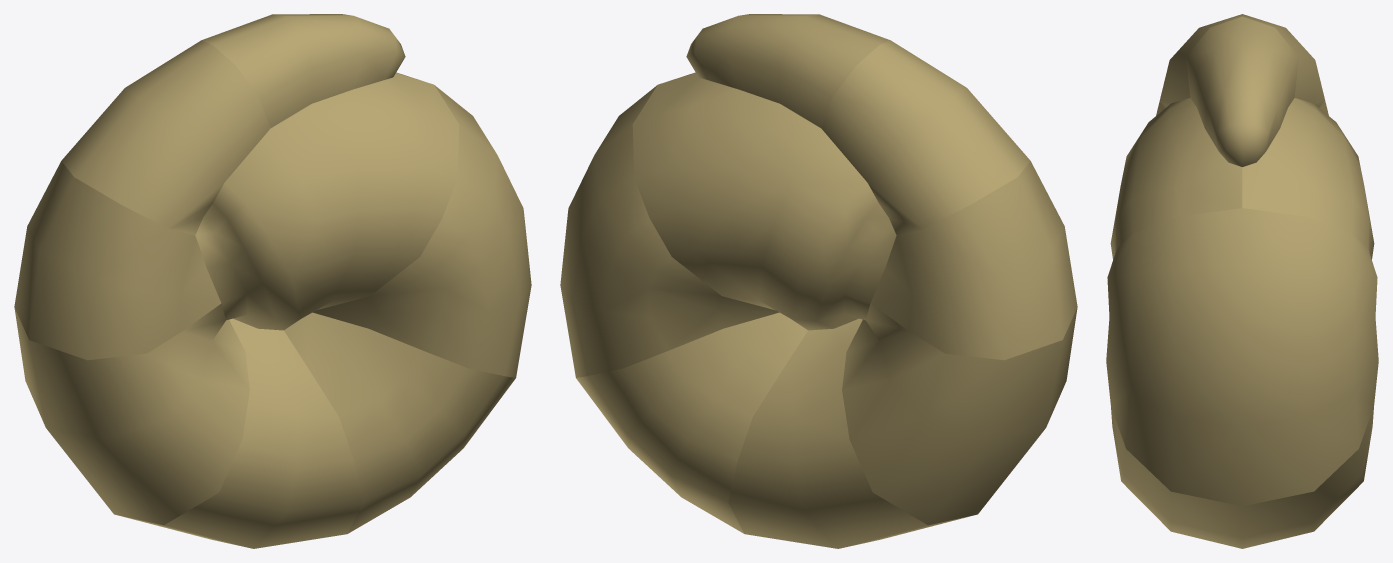
The model's file is obj_artifact_fossil13.fbx.
The picture shows the model from 3 angles, left to right: view 1: azimuth 30°, elevation 25°; view 2: azimuth 150°, elevation 25°; view 3: azimuth 270°, elevation 25°; orthographic projection. The views are drawn at different scales.
Visible parts, largest first — view 1: lod0_obj_artifact_fossil13.001; view 2: lod0_obj_artifact_fossil13.001; view 3: lod0_obj_artifact_fossil13.001.
Part boxes in pixels (left/top/right/bottom): lod0_obj_artifact_fossil13.001: left=14, top=14, right=531, bottom=548; lod0_obj_artifact_fossil13.001: left=560, top=14, right=1077, bottom=548; lod0_obj_artifact_fossil13.001: left=1106, top=14, right=1378, bottom=548.
Bounding box in the file's own units: 5.19 × 5.25 × 2.67.
